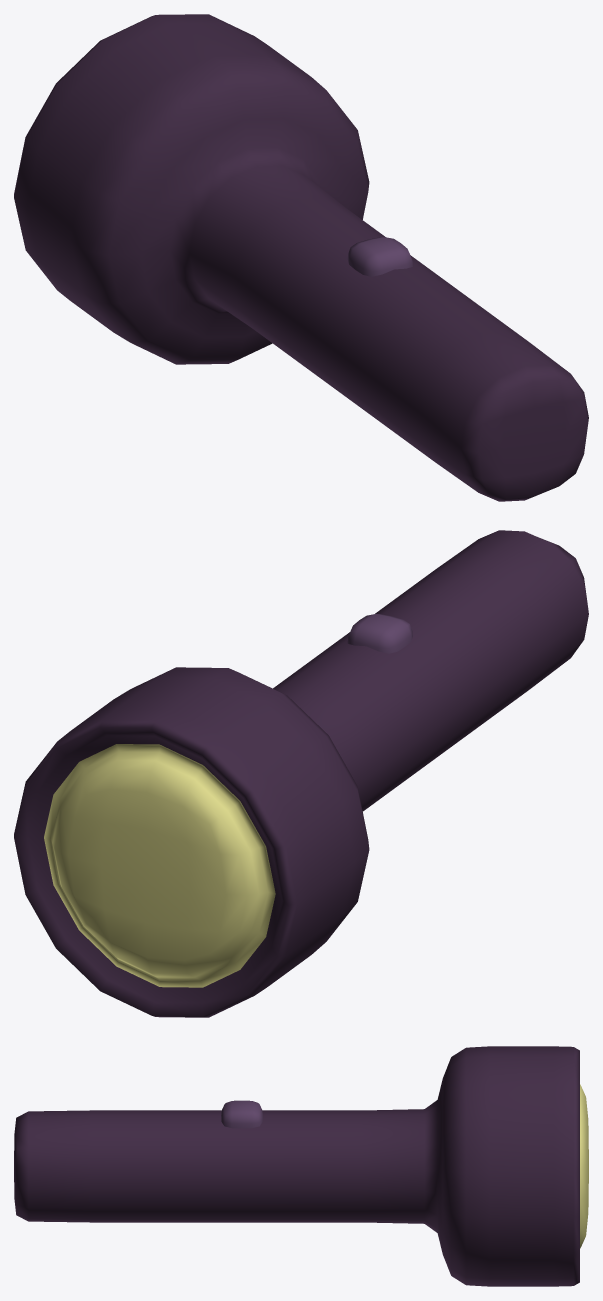
Rendered from flashlight.fbx.
The picture shows the model from 3 angles, top to bottom: view 1: azimuth 30°, elevation 25°; view 2: azimuth 150°, elevation 25°; view 3: azimuth 270°, elevation 25°; orthographic projection. The views are drawn at different scales.
Parts seen in each view (by area): view 1: flashlight; view 2: flashlight; view 3: flashlight.
Part boxes in pixels (x1,y1,x2,y2): flashlight: (14,14,588,501); flashlight: (14,530,588,1017); flashlight: (14,1046,588,1286).
Size of the model in its own units: 3.94 by 9.33 by 3.94.
